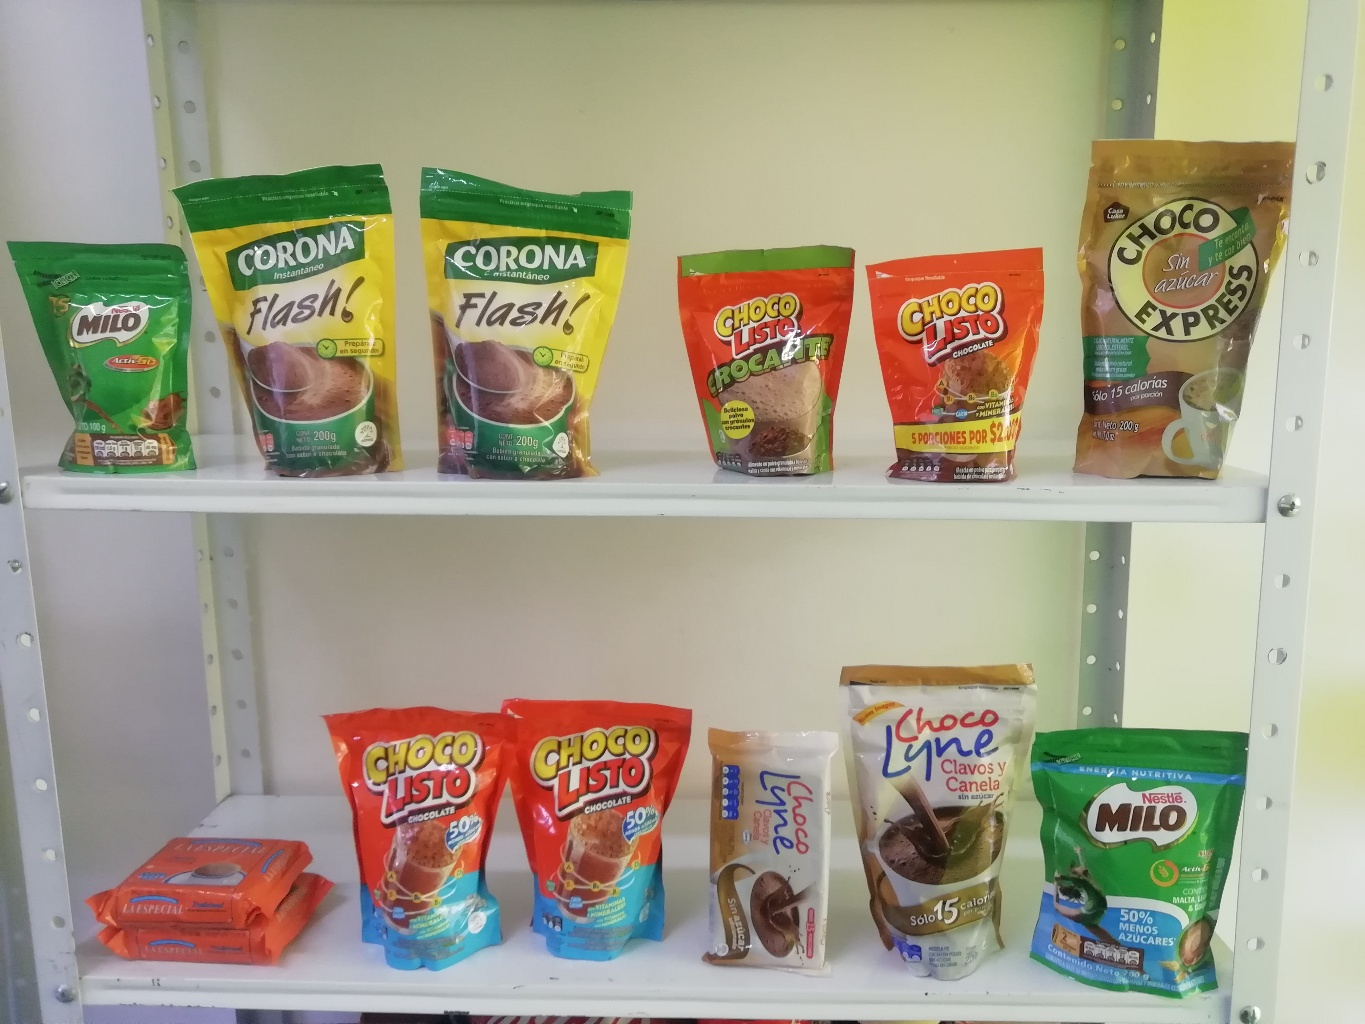COL0170102DYP10000: (673, 248, 853, 478)
COL0170104DYP20000: (500, 696, 696, 964)
COL0170203DYP10000: (6, 236, 201, 477)
COL0170205DYP20000: (1033, 727, 1248, 999)
